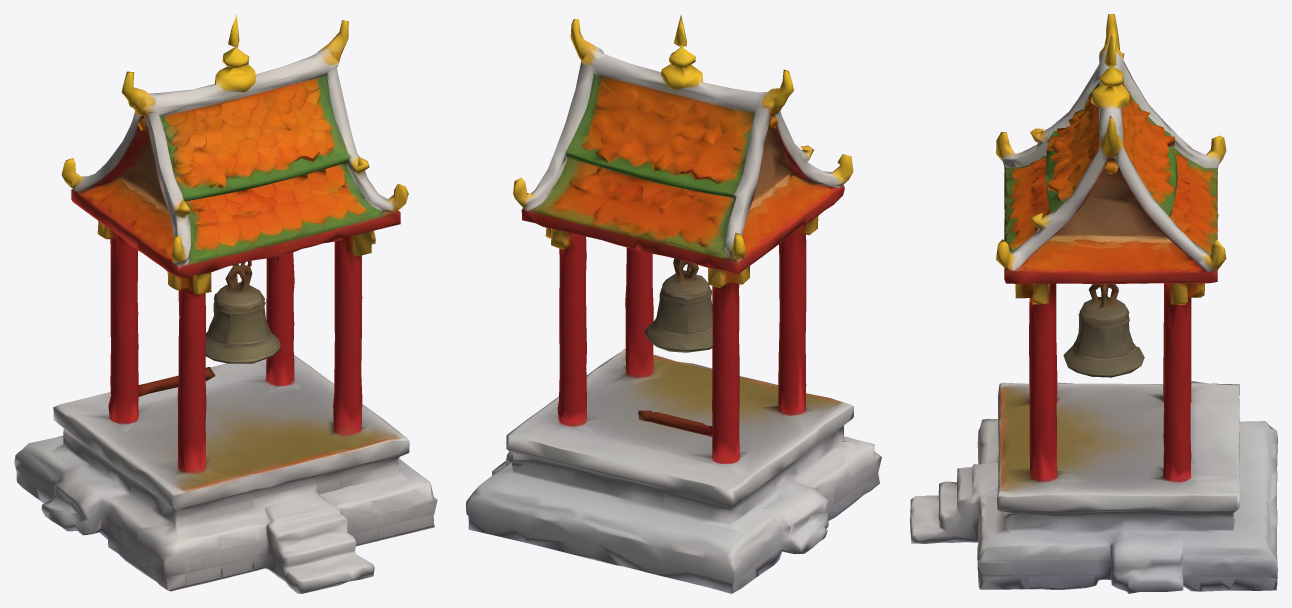
Rendered from bell_tower.glb.
The picture shows the model from 3 angles, left to right: view 1: azimuth 30°, elevation 25°; view 2: azimuth 150°, elevation 25°; view 3: azimuth 270°, elevation 25°; orthographic projection.
Visible parts, largest first — view 1: tripo_node_84e03854-3c70-4cb2-875b-f3ee9fed5256; view 2: tripo_node_84e03854-3c70-4cb2-875b-f3ee9fed5256; view 3: tripo_node_84e03854-3c70-4cb2-875b-f3ee9fed5256.
Boxes of the visible parts, x1,y1,x2,y2 form: tripo_node_84e03854-3c70-4cb2-875b-f3ee9fed5256: [14, 14, 437, 593]; tripo_node_84e03854-3c70-4cb2-875b-f3ee9fed5256: [466, 14, 881, 593]; tripo_node_84e03854-3c70-4cb2-875b-f3ee9fed5256: [910, 14, 1277, 593].
Size of the model in its own units: 0.6686 by 1 by 0.6768.
1 material, 1 textured.
